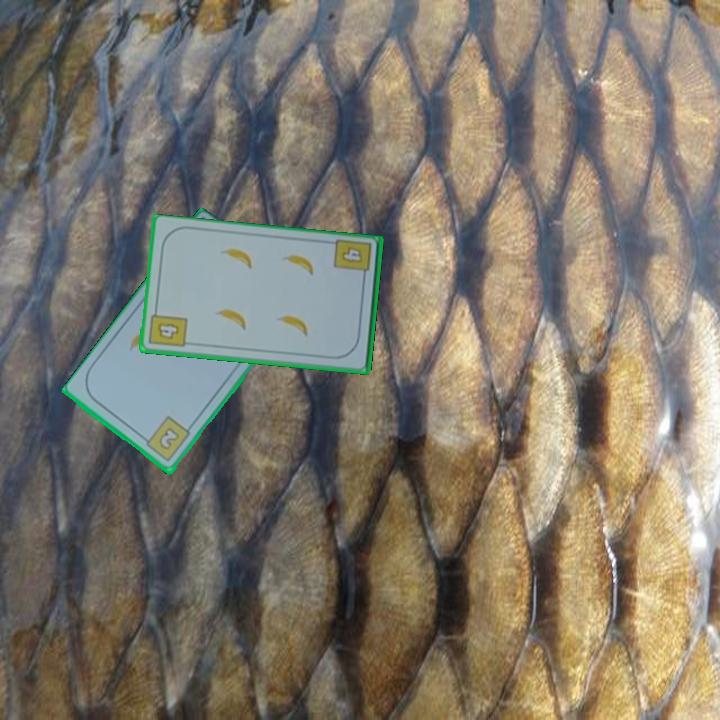2b: (139, 413, 193, 465)
4b: (331, 236, 374, 284), (146, 305, 190, 350)
